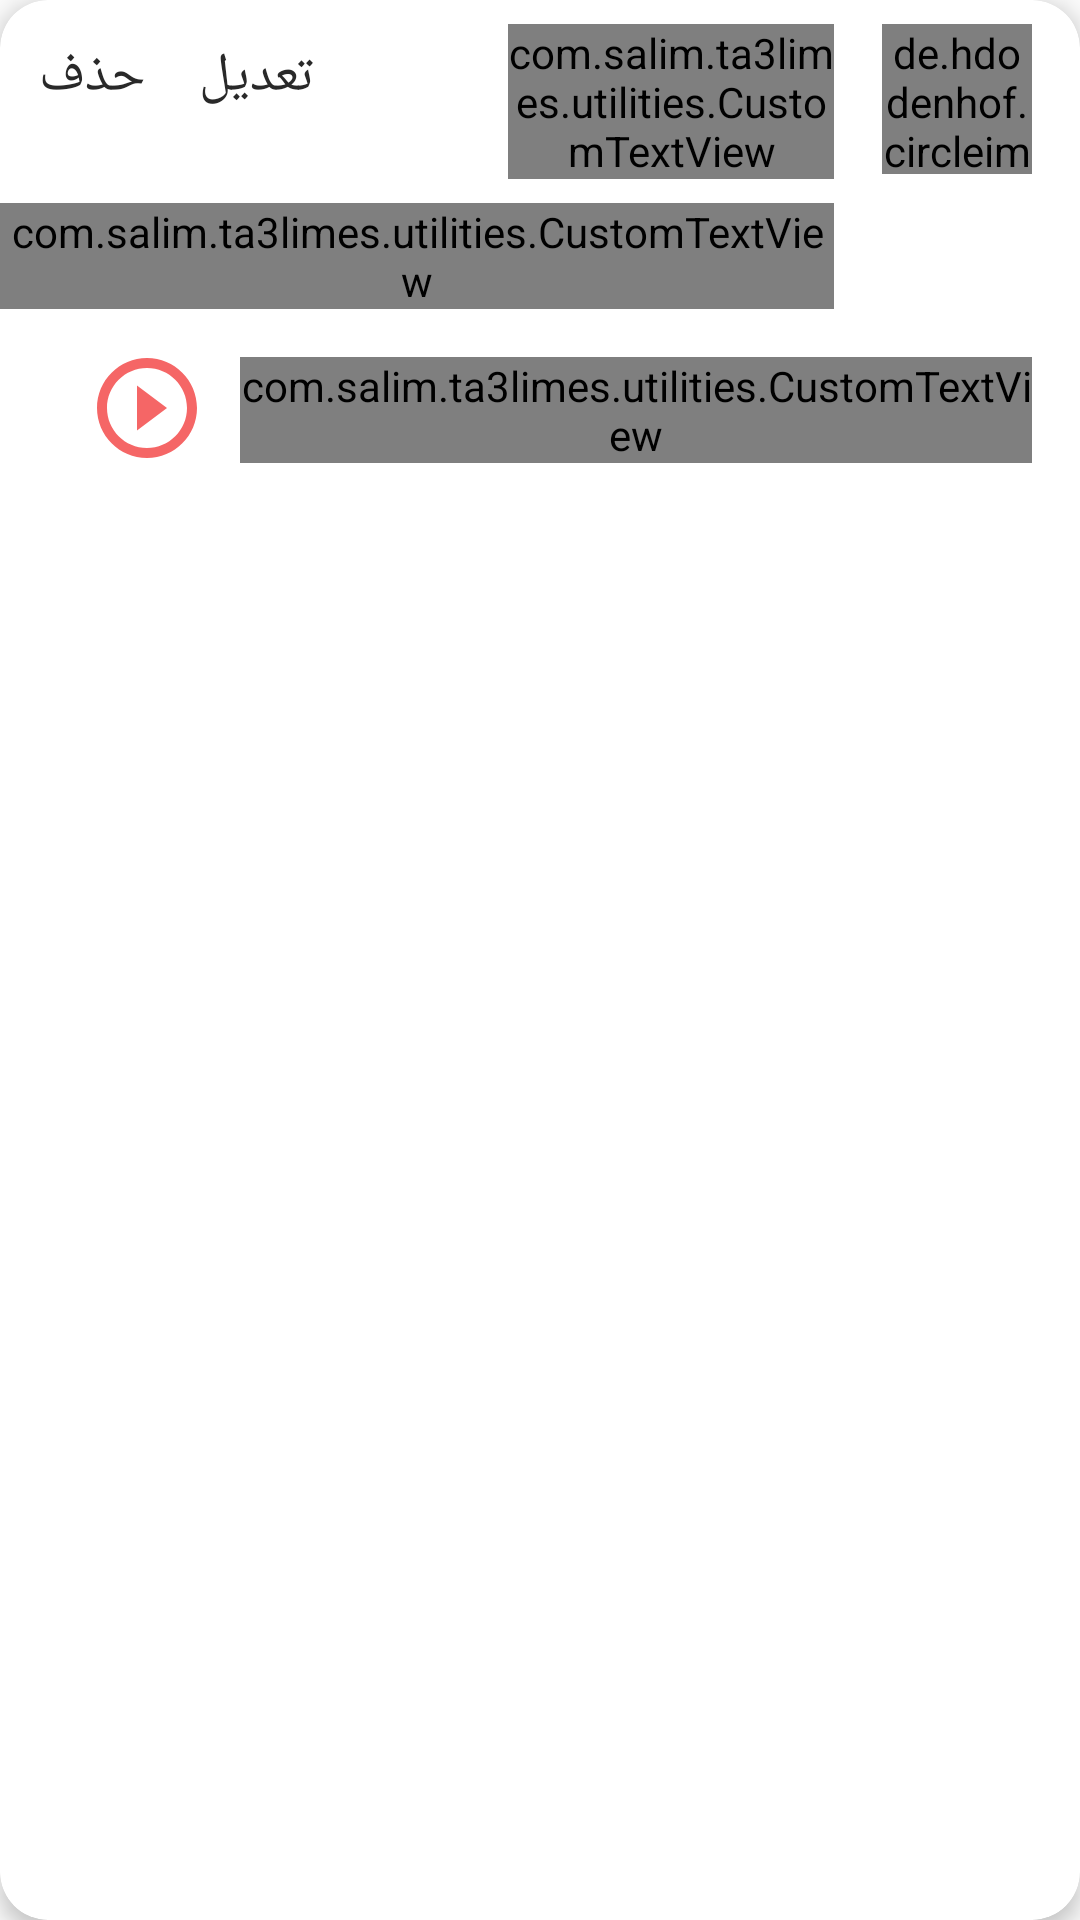

Screen size 1080w x 1920h. Icon name, then its center in pixels as [x,y]:
playicon: [147,408]
